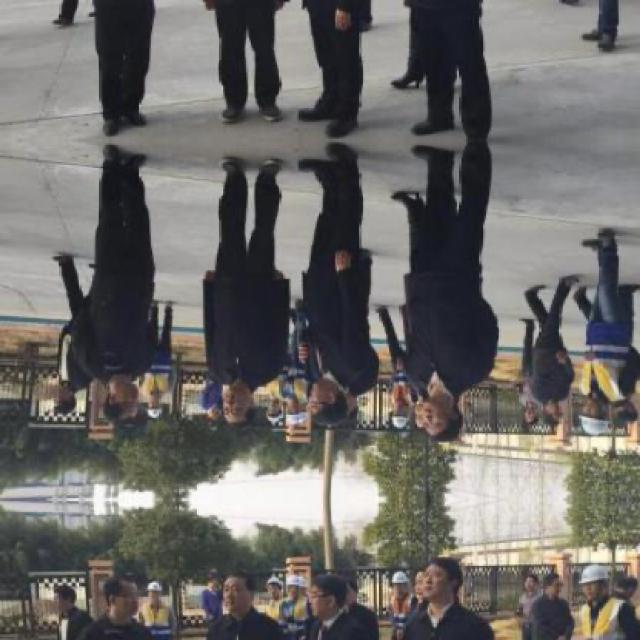sin casco: (64, 356, 170, 418), (320, 377, 378, 439), (404, 386, 468, 441), (190, 386, 276, 426)
